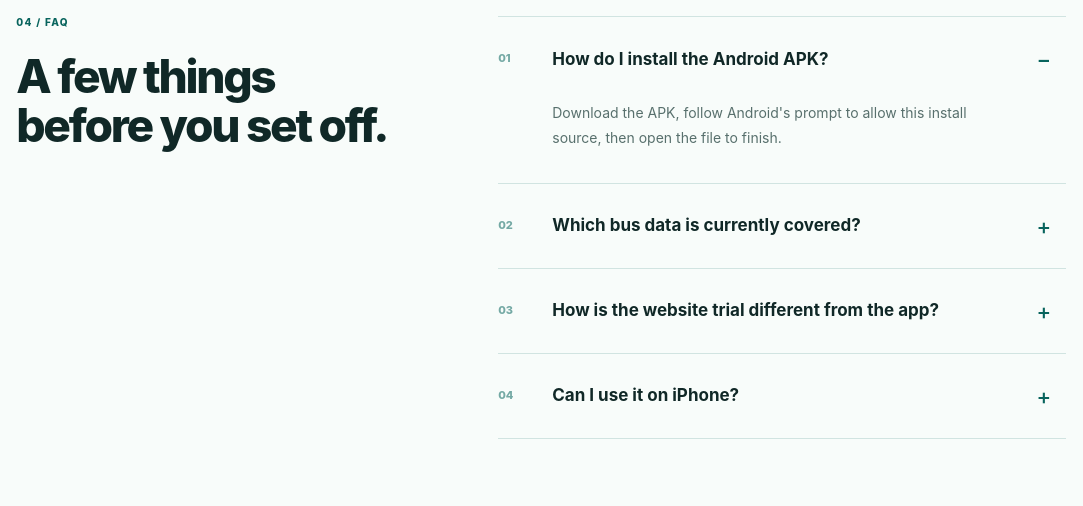
Test: FaqSection › defaults to installation and keeps at most one controlled panel open
This screenshot has width=1083, height=506.
Click the button "02 Which bus data is currently covered? +" at coordinates (782, 226), box x1=498 y1=184 x2=1066 y2=268
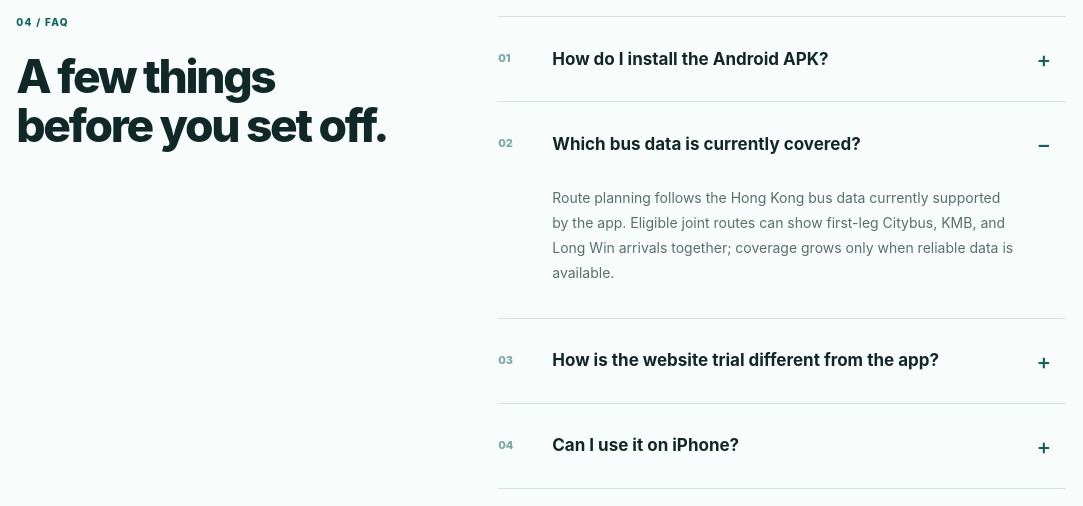
Expected: the button "01 How do I install the Android APK? +" is collapsed, x1=498 y1=17 x2=1066 y2=101
Expected: the button "02 Which bus data is currently covered? −" is expanded, x1=498 y1=102 x2=1066 y2=186
